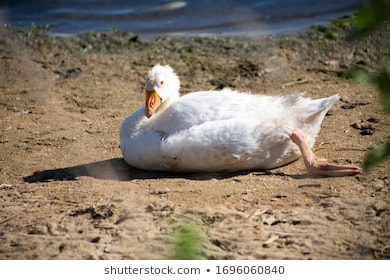duck: (110, 47, 365, 193)
